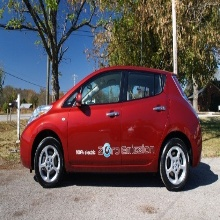no damage: (20, 64, 204, 191)
